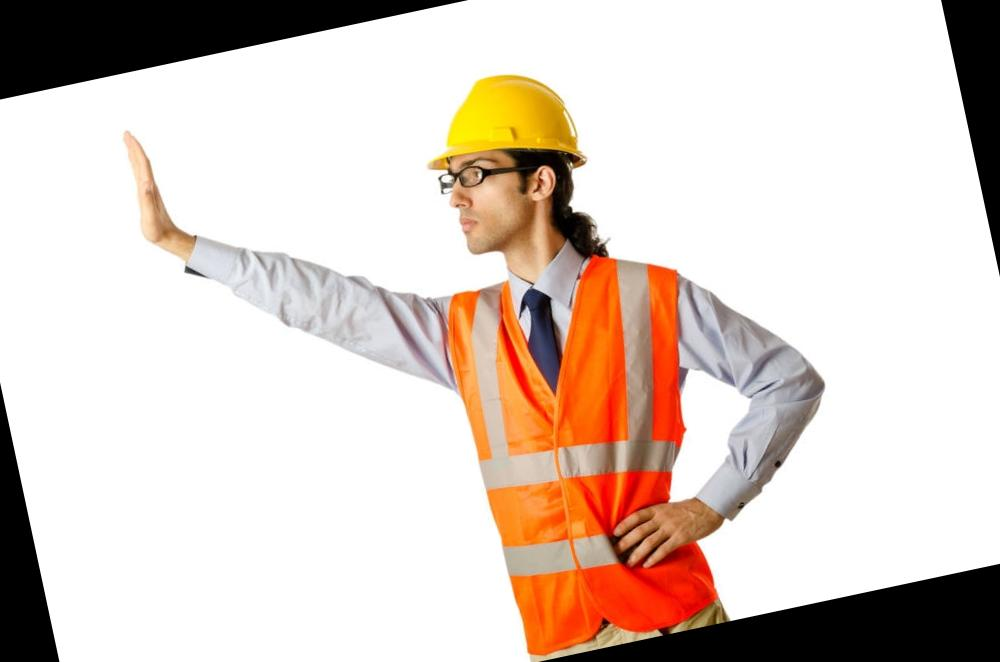helmet: (412, 52, 608, 195)
wear: (439, 253, 739, 657)
